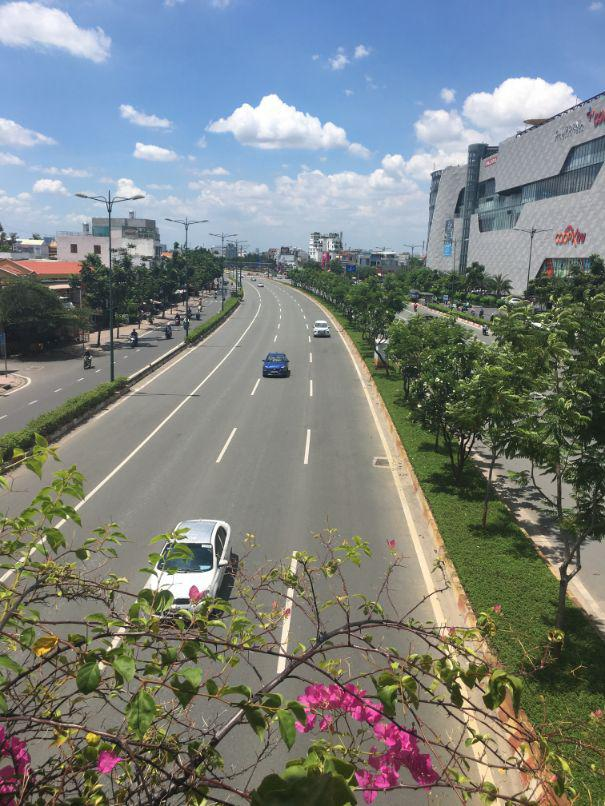car: (136, 516, 237, 610), (263, 353, 291, 380), (314, 322, 332, 340)
